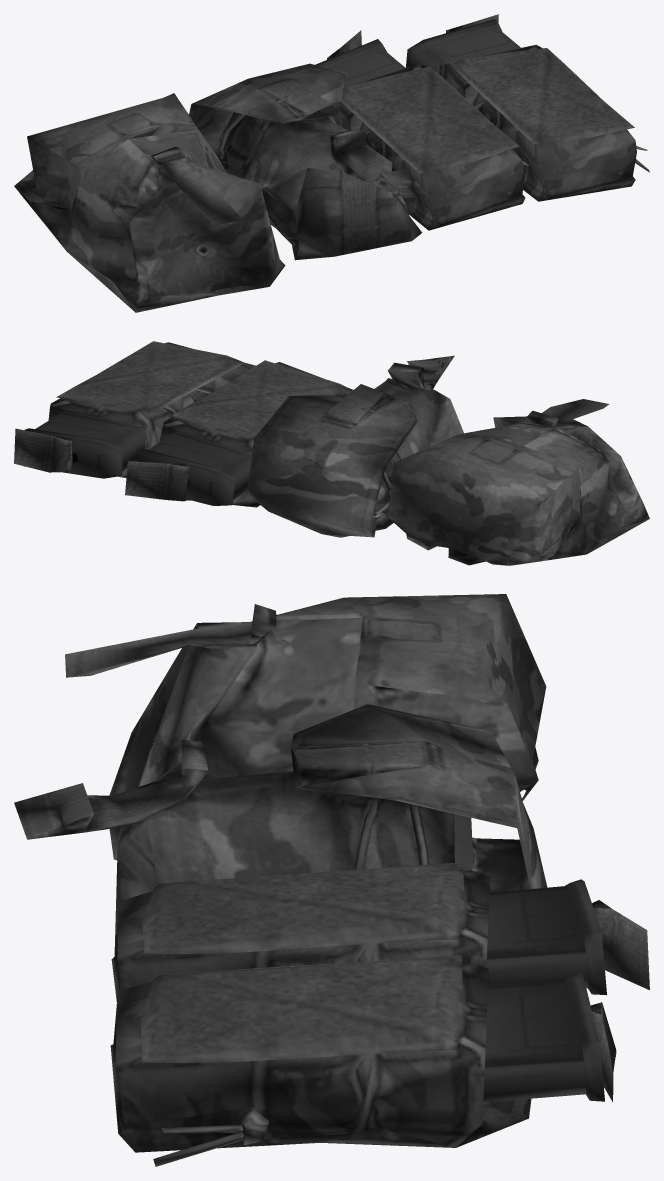
File: TaskForceChestAttachments_Ground.fbx
3 renders of one model, top to bottom at view 1: azimuth 30°, elevation 25°; view 2: azimuth 150°, elevation 25°; view 3: azimuth 270°, elevation 25°, orthographic. The views are drawn at different scales.
Visible parts, largest first — view 1: Waistbelt.001; view 2: Waistbelt.001; view 3: Waistbelt.001.
Part boxes in pixels (x1=…): Waistbelt.001: x1=14, y1=14, x2=649, y2=312; Waistbelt.001: x1=14, y1=341, x2=649, y2=565; Waistbelt.001: x1=14, y1=594, x2=649, y2=1166.
Bounding box in the file's own units: 0.2106 × 0.0483 × 0.1304.
